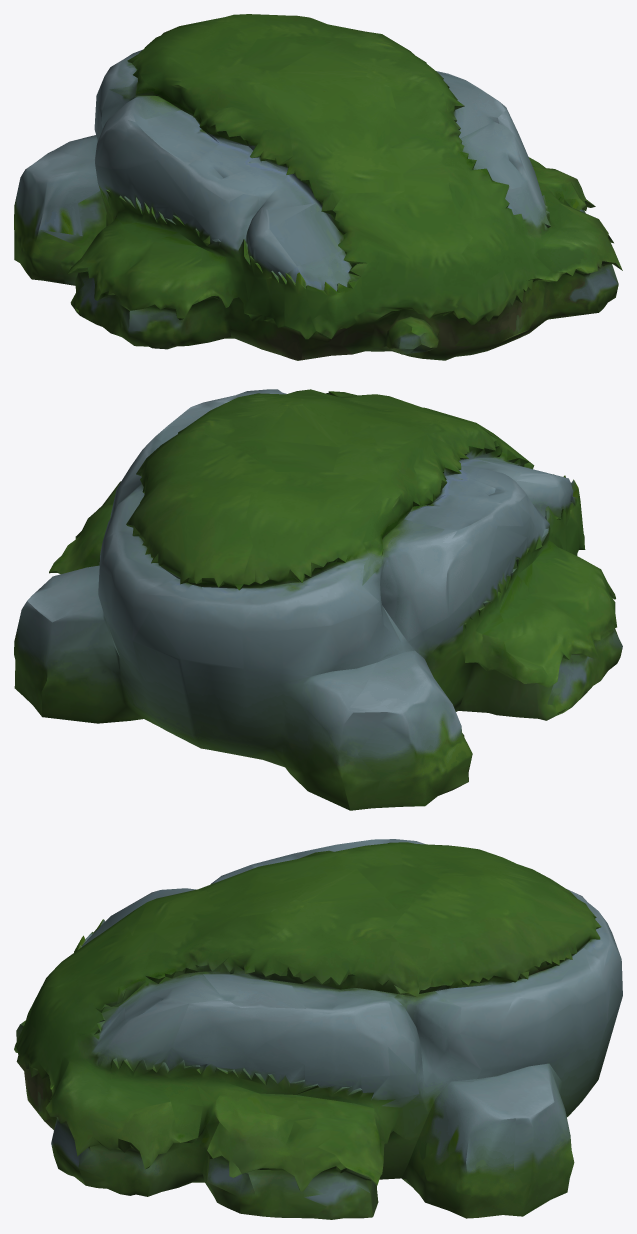
The picture shows the model from 3 angles, top to bottom: view 1: azimuth 30°, elevation 25°; view 2: azimuth 150°, elevation 25°; view 3: azimuth 270°, elevation 25°; orthographic projection. The views are drawn at different scales.
Visible parts, largest first — view 1: mountain_foothill; view 2: mountain_foothill; view 3: mountain_foothill.
Boxes of the visible parts, <box> form: mountain_foothill: <box>14,14,622,360</box>; mountain_foothill: <box>14,389,622,810</box>; mountain_foothill: <box>14,839,622,1219</box>.
Size of the model in its own units: 0.9514 by 0.4216 by 0.9807.
Materials: 1 (1 with a texture image).
